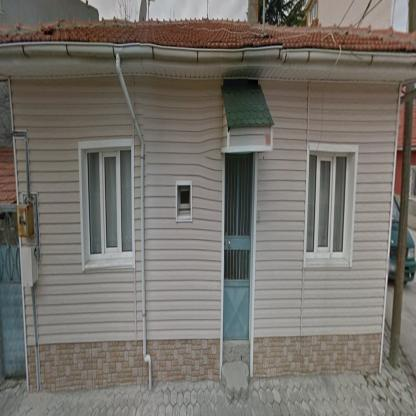door: (224, 155, 252, 341), (1, 211, 25, 376)
window: (86, 148, 132, 261), (305, 154, 351, 257), (178, 186, 189, 211)
